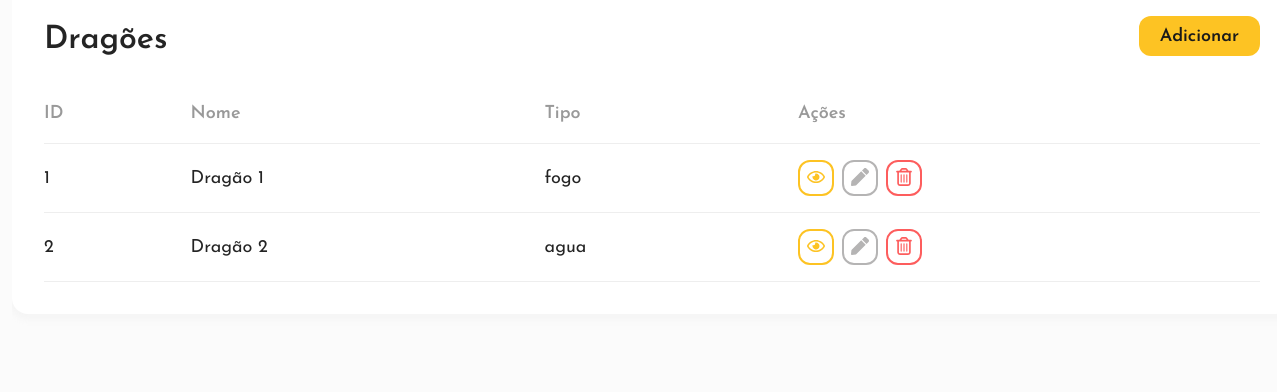
Test case: Dragons › redirect to details when view button is clicked
The width and height of the screenshot is (1277, 392).
Click the button named "Ver detalhes" in the row of "Dragão 1" at (816, 178), box [798,160,834,196]
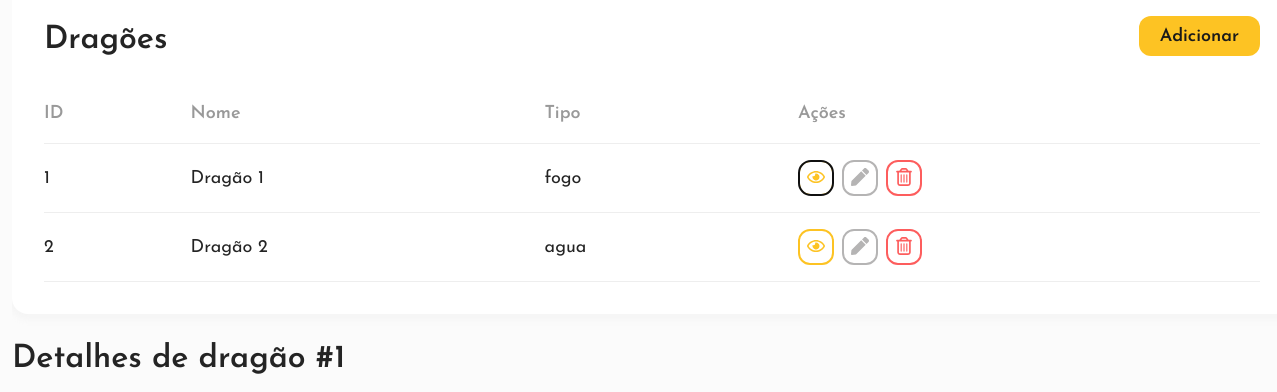
Expected: the heading "Detalhes de dragão #1" is shown, [12,343,345,375]
